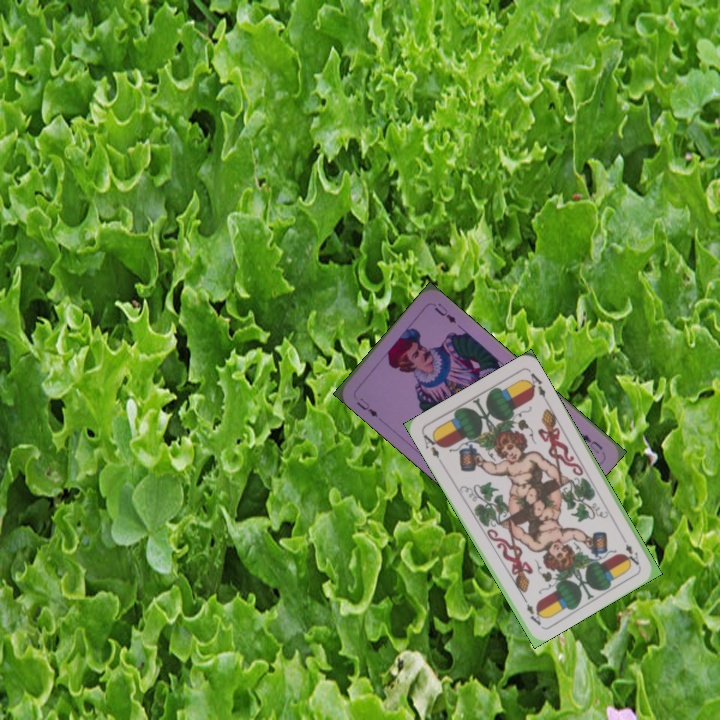EA: (419, 429, 445, 466), (617, 532, 642, 568)
EU: (577, 429, 605, 456), (352, 394, 381, 420)
